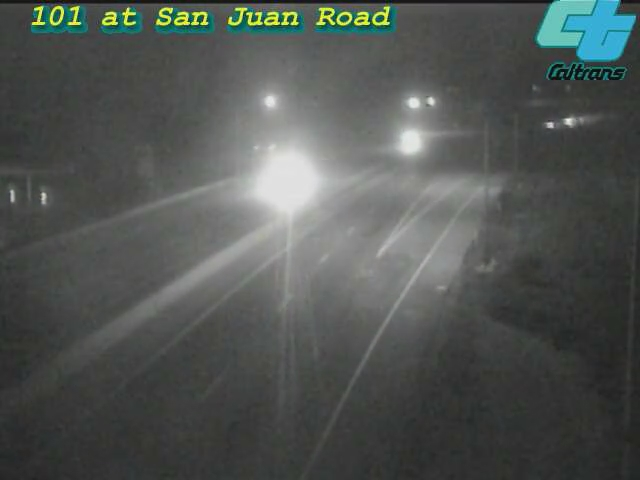vehicle: (241, 142, 321, 222), (383, 117, 433, 167), (555, 95, 605, 145), (526, 100, 576, 150)
